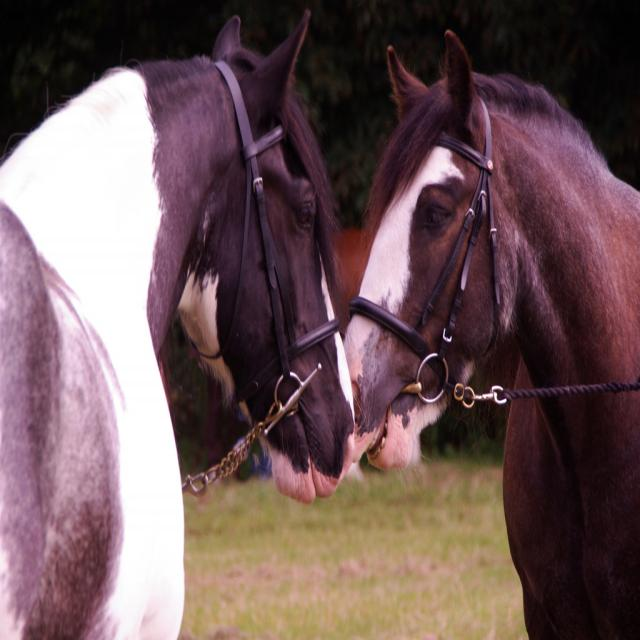Horse: (0, 11, 356, 640), (341, 29, 640, 640)
